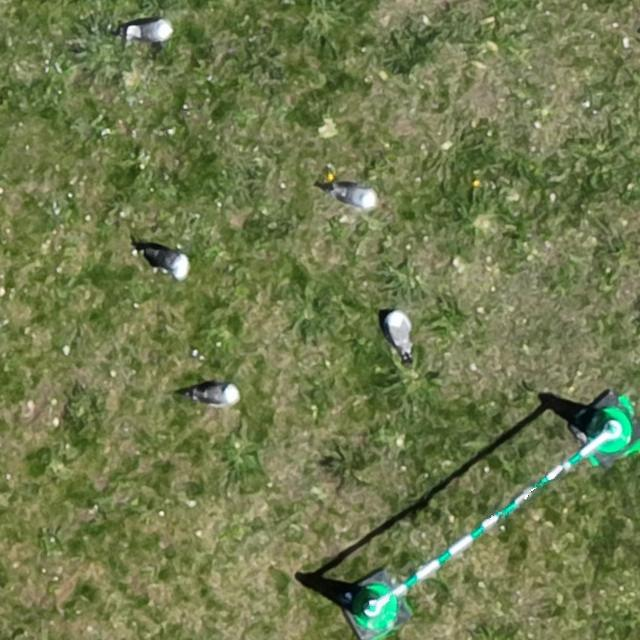umineko: (146, 248, 187, 274), (388, 312, 411, 353), (336, 187, 376, 208), (199, 386, 240, 406), (134, 21, 170, 41)
